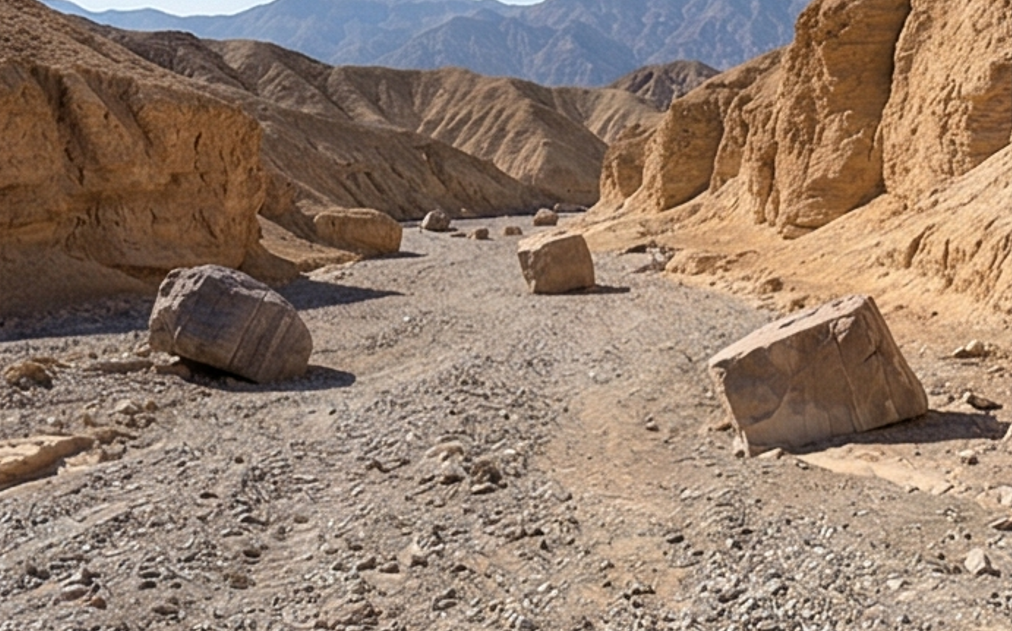rocks: (708, 296, 927, 450), (149, 265, 312, 382), (518, 230, 594, 293), (314, 208, 402, 255), (422, 210, 450, 231), (535, 209, 557, 226)
